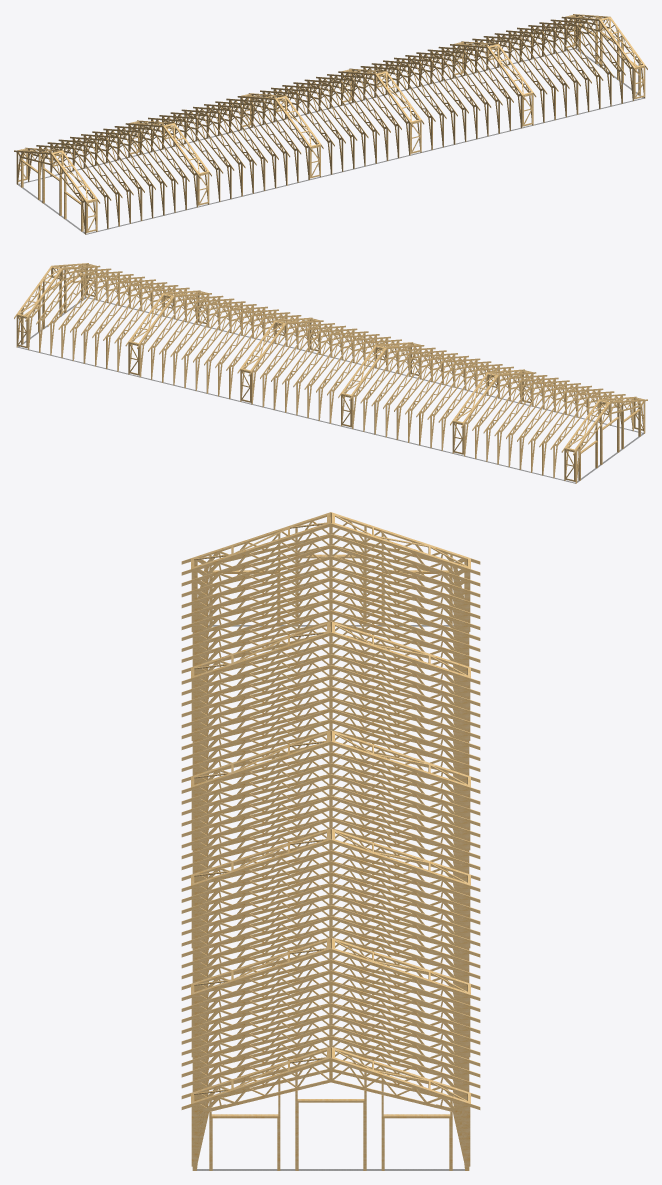
Rendered from timber_trusses_for_goat_farm.glb.
3 renders of one model, top to bottom at view 1: azimuth 30°, elevation 25°; view 2: azimuth 150°, elevation 25°; view 3: azimuth 270°, elevation 25°, orthographic. The views are drawn at different scales.
Parts seen in each view (by area): view 1: IfcWallStandardCase___200_3, IfcBuildingElementProxy___T1, IfcBuildingElementProxy___T1_15, IfcBuildingElementProxy___T1_19, IfcBuildingElementProxy___T1_29, IfcBuildingElementProxy___T1_31, IfcBuildingElementProxy___T1_16, IfcBuildingElementProxy___T1_21, IfcBuildingElementProxy___T1_12, IfcBuildingElementProxy___T1_5, IfcBuildingElementProxy___T1_13, IfcBuildingElementProxy___T1_14 (+47 smaller); view 2: IfcWallStandardCase___200, IfcBuildingElementProxy___T1, IfcBuildingElementProxy___T1_19, IfcBuildingElementProxy___T1_29, IfcBuildingElementProxy___T1_15, IfcBuildingElementProxy___T1_31, IfcBuildingElementProxy___T1_16, IfcBuildingElementProxy___T1_12, IfcBuildingElementProxy___T1_5, IfcBuildingElementProxy___T1_21, IfcBuildingElementProxy___T1_14, IfcBuildingElementProxy___T1_13 (+47 smaller); view 3: IfcBuildingElementProxy___T1_46, IfcBuildingElementProxy___T1_13, IfcBuildingElementProxy___T1_5, IfcBuildingElementProxy___T1_2, IfcBuildingElementProxy___T1_32, IfcBuildingElementProxy___T1_34, IfcBuildingElementProxy___T1_35, IfcBuildingElementProxy___T1_45, IfcBuildingElementProxy___T1_50, IfcBuildingElementProxy___T1_14, IfcBuildingElementProxy___T1_22, IfcBuildingElementProxy___T1_23 (+51 smaller).
Boxes of the visible parts, x1,y1,x2,y2 form: IfcWallStandardCase___200_3: (86, 98, 644, 234); IfcBuildingElementProxy___T1: (14, 150, 88, 234); IfcBuildingElementProxy___T1_15: (506, 30, 580, 114); IfcBuildingElementProxy___T1_19: (517, 27, 591, 111); IfcBuildingElementProxy___T1_29: (327, 74, 401, 158); IfcBuildingElementProxy___T1_31: (204, 104, 278, 188); IfcBuildingElementProxy___T1_16: (450, 44, 524, 128); IfcBuildingElementProxy___T1_21: (394, 57, 468, 141); IfcBuildingElementProxy___T1_12: (81, 134, 155, 218); IfcBuildingElementProxy___T1_5: (193, 106, 267, 190); IfcBuildingElementProxy___T1_13: (70, 136, 144, 220); IfcBuildingElementProxy___T1_14: (316, 76, 390, 160); IfcWallStandardCase___200: (17, 347, 575, 483); IfcBuildingElementProxy___T1: (573, 399, 647, 483); IfcBuildingElementProxy___T1_19: (70, 276, 144, 360); IfcBuildingElementProxy___T1_29: (260, 323, 334, 407); IfcBuildingElementProxy___T1_15: (81, 279, 155, 363); IfcBuildingElementProxy___T1_31: (383, 353, 457, 437); IfcBuildingElementProxy___T1_16: (137, 293, 211, 377); IfcBuildingElementProxy___T1_12: (506, 383, 580, 467); IfcBuildingElementProxy___T1_5: (394, 355, 468, 439); IfcBuildingElementProxy___T1_21: (193, 306, 267, 390); IfcBuildingElementProxy___T1_14: (271, 325, 345, 409); IfcBuildingElementProxy___T1_13: (517, 385, 591, 469); IfcBuildingElementProxy___T1_46: (181, 1057, 480, 1170); IfcBuildingElementProxy___T1_13: (181, 566, 480, 662); IfcBuildingElementProxy___T1_5: (181, 686, 480, 782); IfcBuildingElementProxy___T1_2: (181, 523, 480, 618); IfcBuildingElementProxy___T1_32: (181, 676, 480, 771); IfcBuildingElementProxy___T1_34: (181, 894, 480, 989); IfcBuildingElementProxy___T1_35: (181, 643, 480, 738); IfcBuildingElementProxy___T1_45: (181, 556, 480, 651); IfcBuildingElementProxy___T1_50: (181, 1025, 480, 1120); IfcBuildingElementProxy___T1_14: (181, 807, 480, 902); IfcBuildingElementProxy___T1_22: (181, 774, 480, 869); IfcBuildingElementProxy___T1_23: (181, 763, 480, 859).
Bounding box in the file's own units: 60 × 5.78 × 13.86.
Materials: 2 (2 with a texture image).
